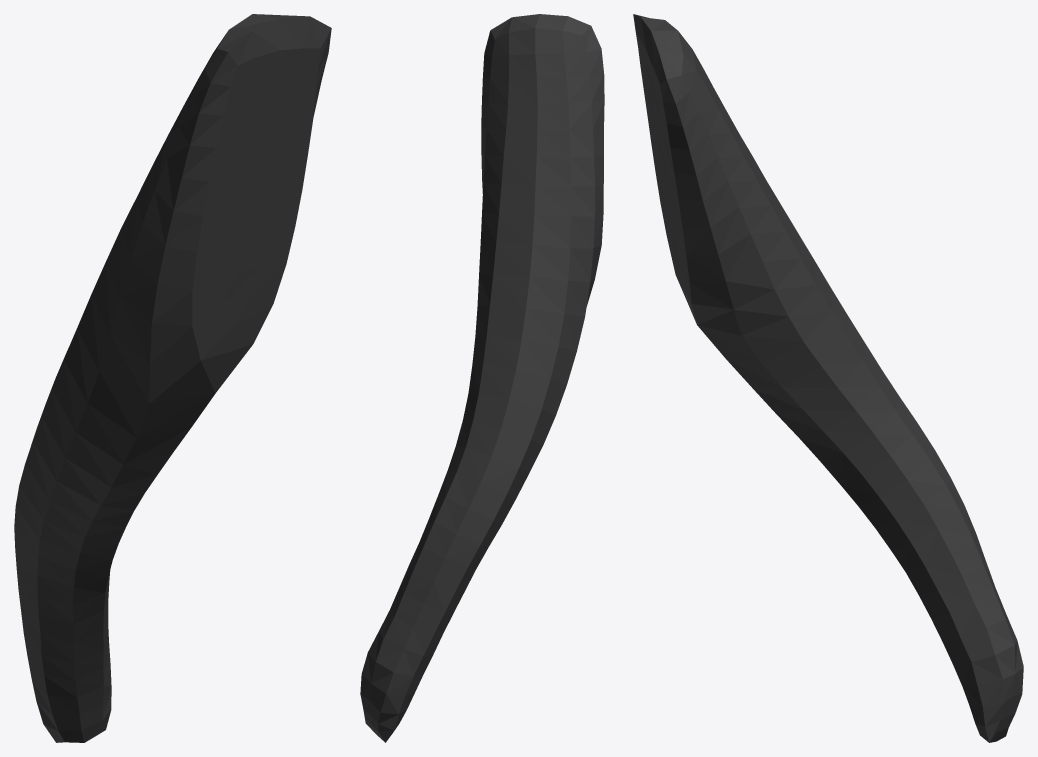
File: SDF_proximal_check_lig.glb
3 views of the same model, side by side, from view 1: azimuth 30°, elevation 25°; view 2: azimuth 150°, elevation 25°; view 3: azimuth 270°, elevation 25° (orthographic). The views are drawn at different scales.
Parts seen in each view (by area): view 1: SDF_proximal_check_lig; view 2: SDF_proximal_check_lig; view 3: SDF_proximal_check_lig.
Part boxes in pixels (x1,y1,x2,y2): SDF_proximal_check_lig: [14, 14, 331, 742]; SDF_proximal_check_lig: [360, 14, 604, 742]; SDF_proximal_check_lig: [633, 14, 1023, 742].
Bounding box in the file's own units: 4.98 × 22.56 × 11.31.
1 material, 1 textured.
